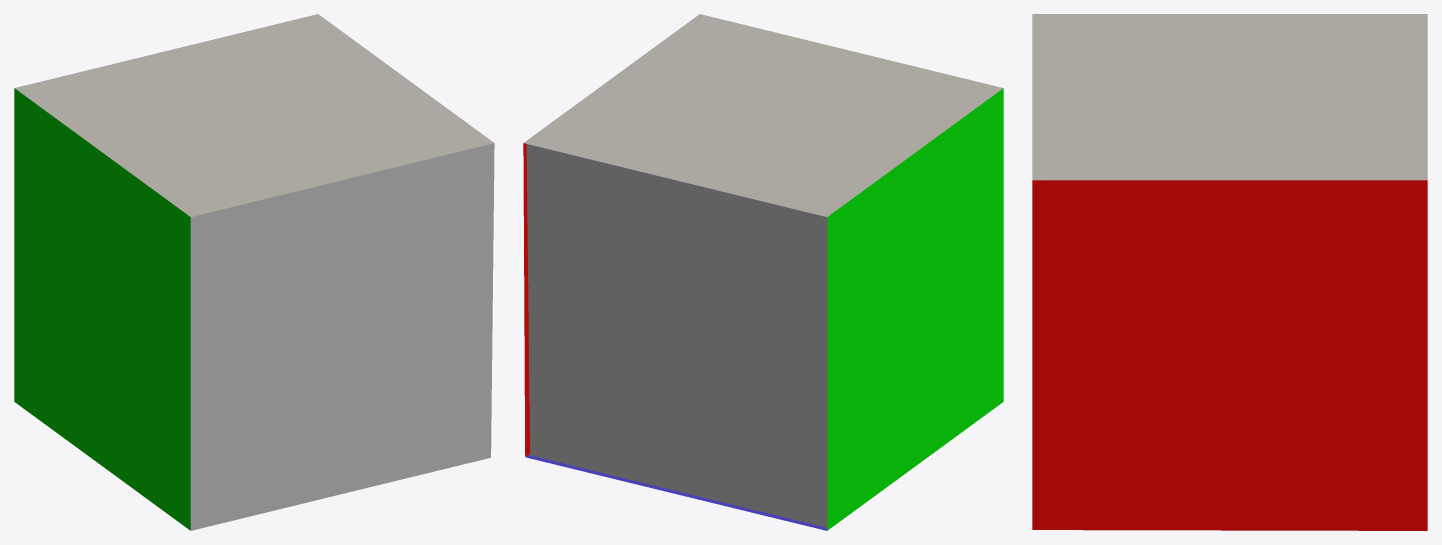
The model's file is box-advanced.obj.
3 renders of one model, left to right at view 1: azimuth 30°, elevation 25°; view 2: azimuth 150°, elevation 25°; view 3: azimuth 270°, elevation 25°, orthographic. The views are drawn at different scales.
Visible parts, largest first — view 1: CornellBox-advanced; view 2: CornellBox-advanced; view 3: CornellBox-advanced.
Boxes of the visible parts, bbox=[...] form: CornellBox-advanced: bbox=[14, 14, 494, 530]; CornellBox-advanced: bbox=[523, 14, 1003, 530]; CornellBox-advanced: bbox=[1032, 14, 1427, 530].
Size of the model in its own units: 5.56 by 5.49 by 5.59.
